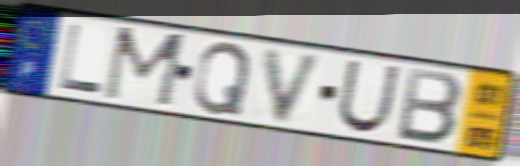B: (394, 65, 465, 147)
L: (56, 21, 106, 97)
M: (99, 24, 192, 111)
Q: (191, 39, 254, 118)
U: (335, 57, 403, 136)
V: (261, 46, 329, 127)
